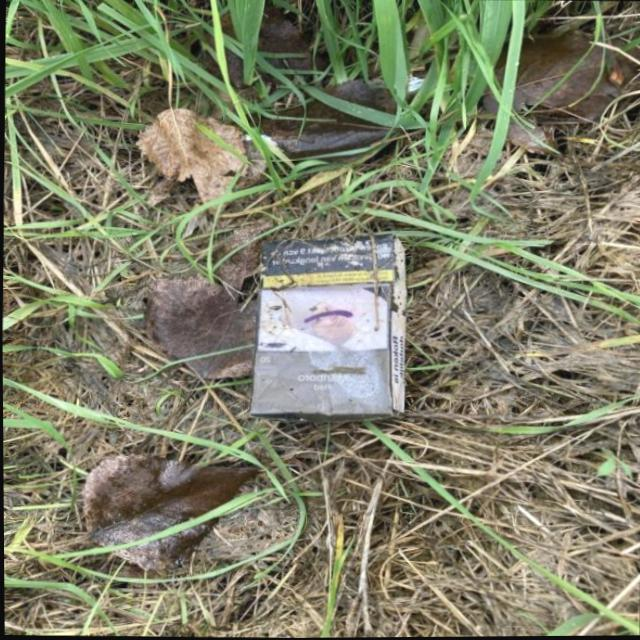Paper: (244, 229, 414, 427)
